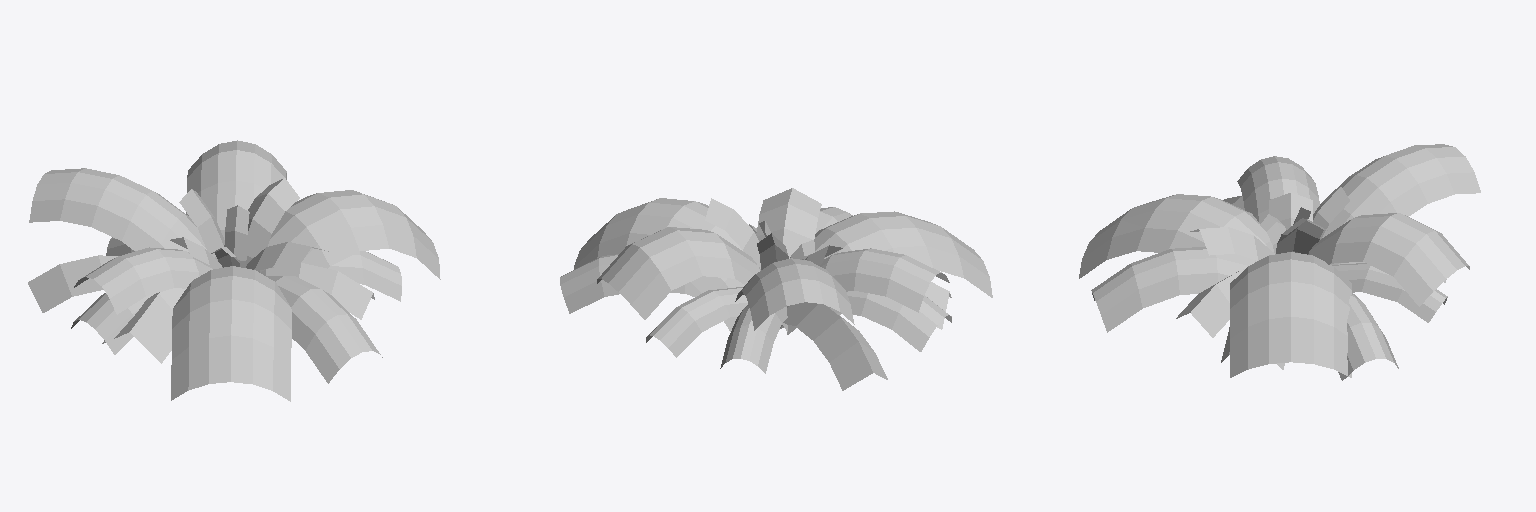
Rendered from fern.obj.
3 renders of one model, left to right at view 1: azimuth 30°, elevation 25°; view 2: azimuth 150°, elevation 25°; view 3: azimuth 270°, elevation 25°, orthographic.
Visible parts, largest first — view 1: Mesh_Mesh_Mesh_fern; view 2: Mesh_Mesh_Mesh_fern; view 3: Mesh_Mesh_Mesh_fern.
Boxes of the visible parts, x1,y1,x2,y2 form: Mesh_Mesh_Mesh_fern: [28, 140, 440, 401]; Mesh_Mesh_Mesh_fern: [560, 188, 992, 390]; Mesh_Mesh_Mesh_fern: [1079, 144, 1480, 380].
Size of the model in its own units: 0.0751 by 0.0238 by 0.0756.